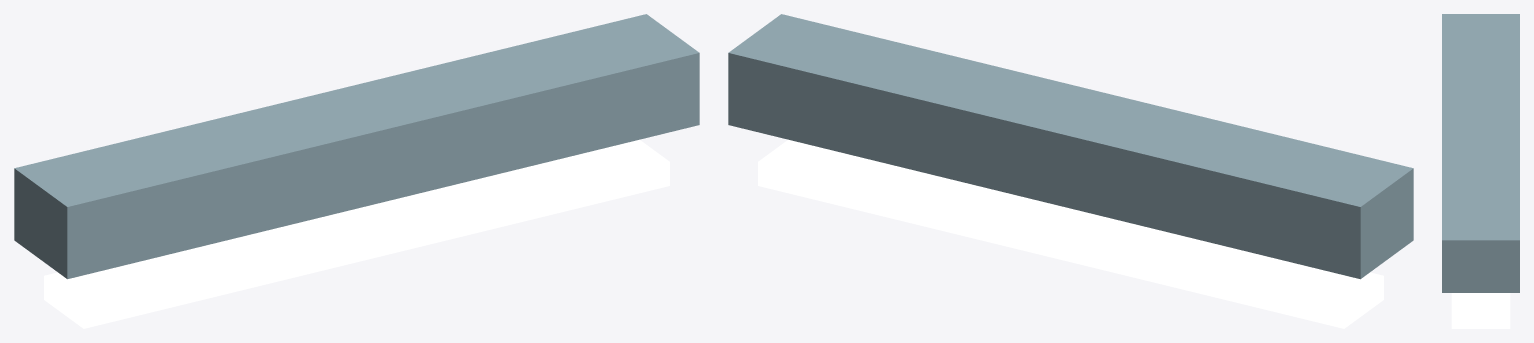
File: light-led.glb
3 renders of one model, left to right at view 1: azimuth 30°, elevation 25°; view 2: azimuth 150°, elevation 25°; view 3: azimuth 270°, elevation 25°, orthographic. The views are drawn at different scales.
Parts seen in each view (by area): view 1: ll_body, ll_glow; view 2: ll_body, ll_glow; view 3: ll_body, ll_glow.
Part boxes in pixels (<box>): ll_body: <box>14,14,699,279</box>; ll_glow: <box>44,139,669,328</box>; ll_body: <box>728,14,1413,279</box>; ll_glow: <box>758,139,1383,328</box>; ll_body: <box>1442,14,1519,292</box>; ll_glow: <box>1451,293,1510,328</box>.
Size of the model in its own units: 5 by 1 by 0.7273.
